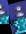recallP: (9, 0, 26, 24), (0, 0, 9, 24), (9, 24, 26, 34)
